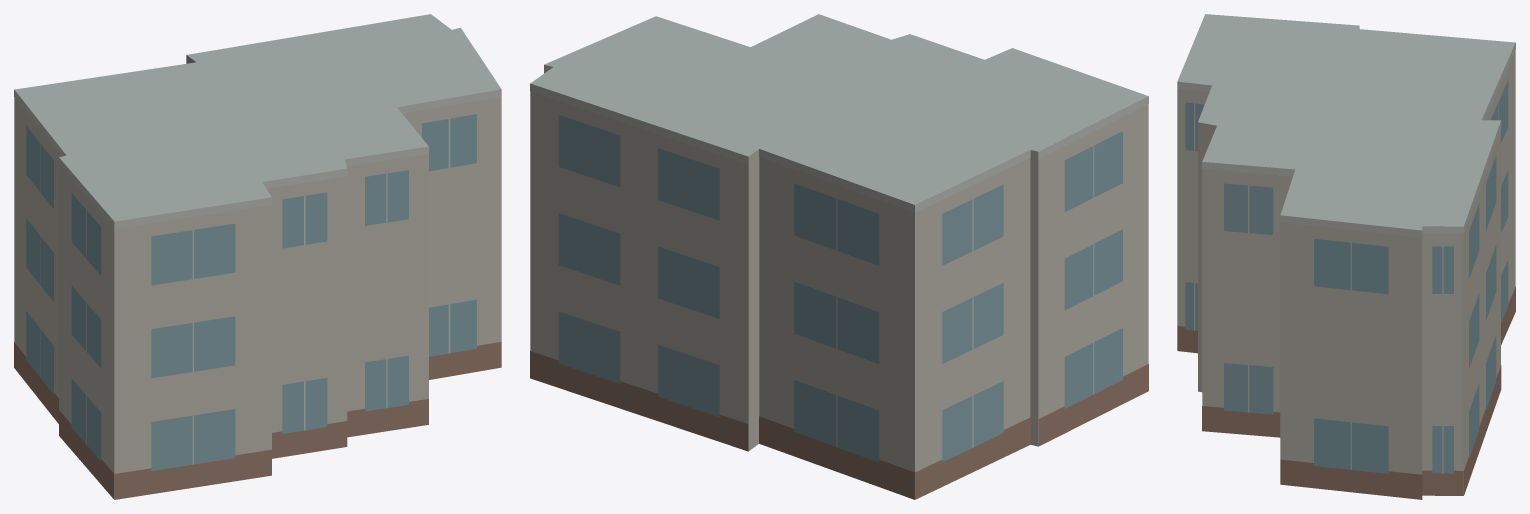
File: survey-upis-32679489.glb
3 views of the same model, side by side, from view 1: azimuth 30°, elevation 25°; view 2: azimuth 150°, elevation 25°; view 3: azimuth 270°, elevation 25° (orthographic). The views are drawn at different scales.
Parts seen in each view (by area): view 1: survey-upis-32679489.tmp; view 2: survey-upis-32679489.tmp; view 3: survey-upis-32679489.tmp.
Boxes of the visible parts, <box> form: survey-upis-32679489.tmp: <box>14,14,501,499</box>; survey-upis-32679489.tmp: <box>530,14,1148,499</box>; survey-upis-32679489.tmp: <box>1177,14,1515,499</box>.
Size of the model in its own units: 15.79 by 9.15 by 10.43.
